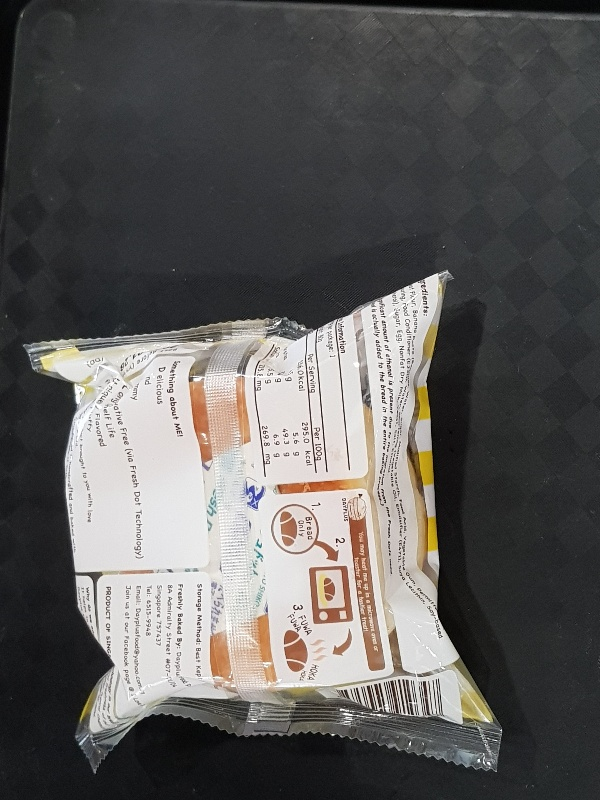Dayplus Red Bean: (17, 269, 503, 775)
